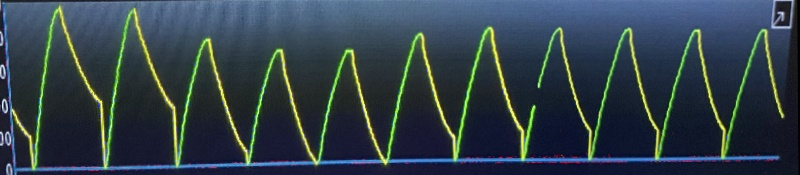leakage: (401, 14, 727, 166), (16, 3, 248, 171)
normal_volume: (253, 22, 387, 166)
